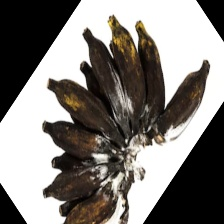banana: (25, 22, 168, 181)
